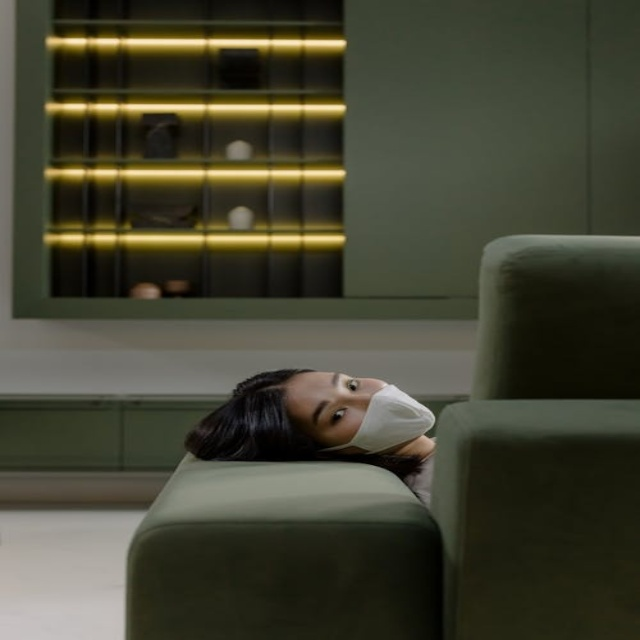Mascara: (321, 383, 435, 454)
Sin_gafas: (331, 407, 348, 423), (346, 378, 359, 392)
